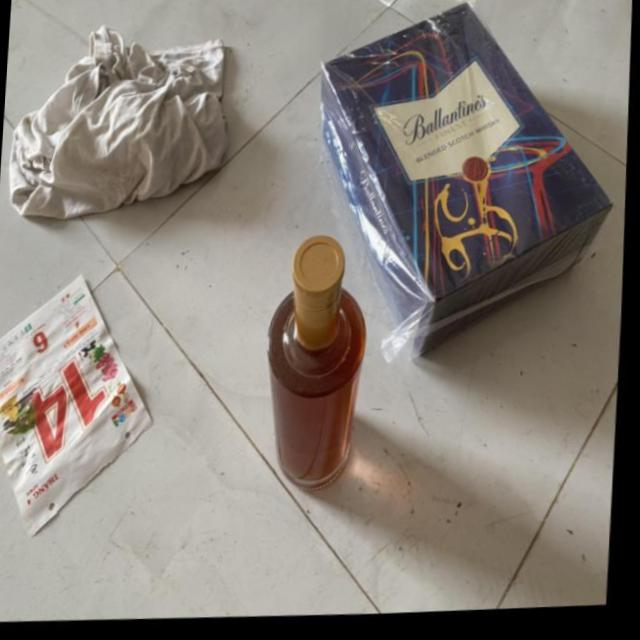cardboard: (0, 13, 247, 252)
foam box: (252, 233, 381, 499)
food: (0, 258, 166, 569)
trash: (299, 0, 638, 382)
